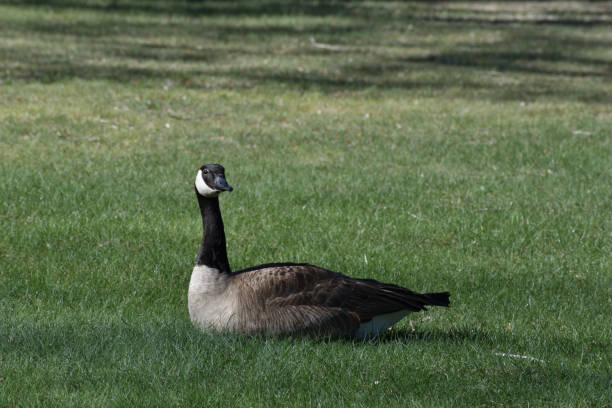Canadian-Goose: (184, 162, 450, 341)
